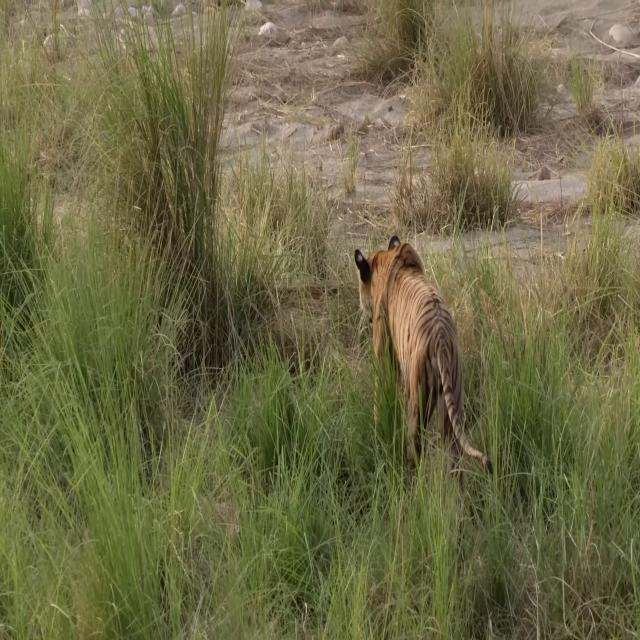tiger: (353, 234, 494, 556)
